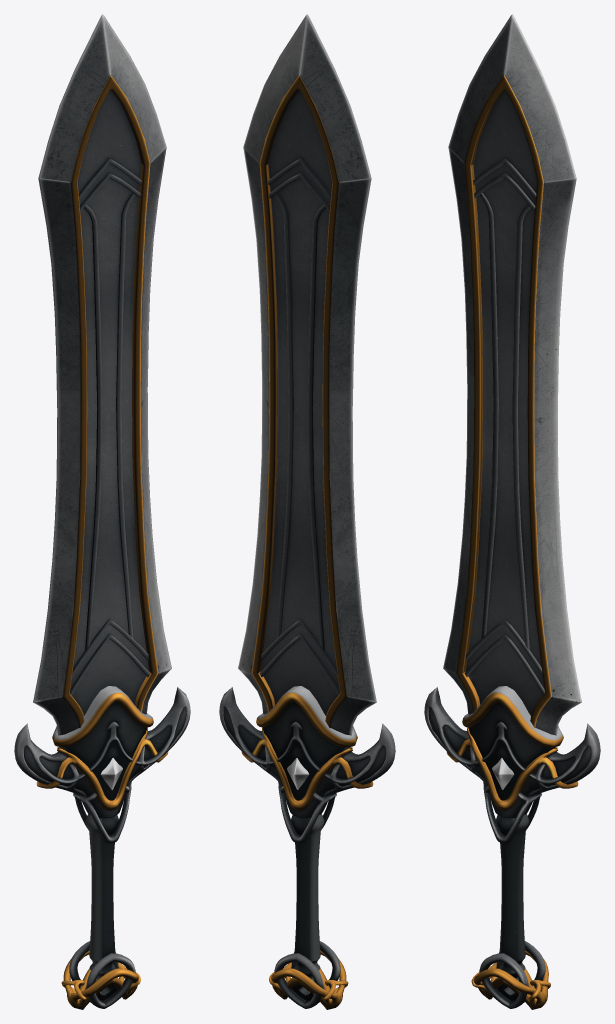
Rendered from sm_sword_167.gltf.
3 views of the same model, side by side, from view 1: azimuth 30°, elevation 25°; view 2: azimuth 150°, elevation 25°; view 3: azimuth 330°, elevation 25° (orthographic).
Parts seen in each view (by area): view 1: sm_sword_167; view 2: sm_sword_167; view 3: sm_sword_167.
Part boxes in pixels (x1,y1,x2,y2): sm_sword_167: (14,14,190,1009); sm_sword_167: (219,14,395,1009); sm_sword_167: (424,14,600,1009).
Bounding box in the file's own units: 0.2784 × 1.52 × 0.0958.
1 material, 1 textured.
